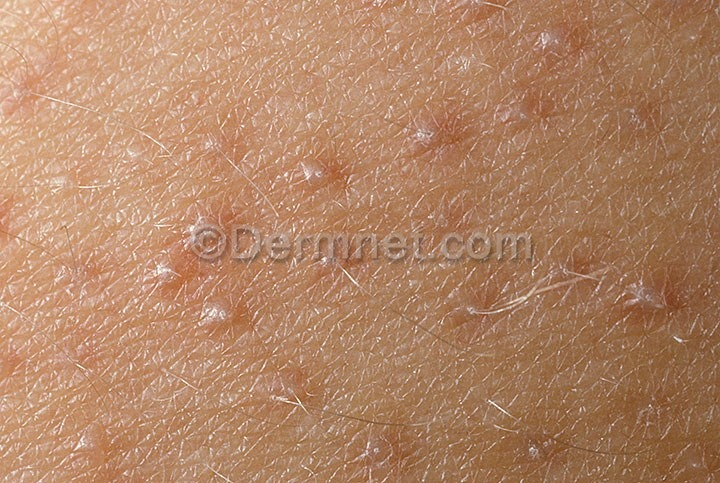Eczema: (5, 1, 718, 482)
